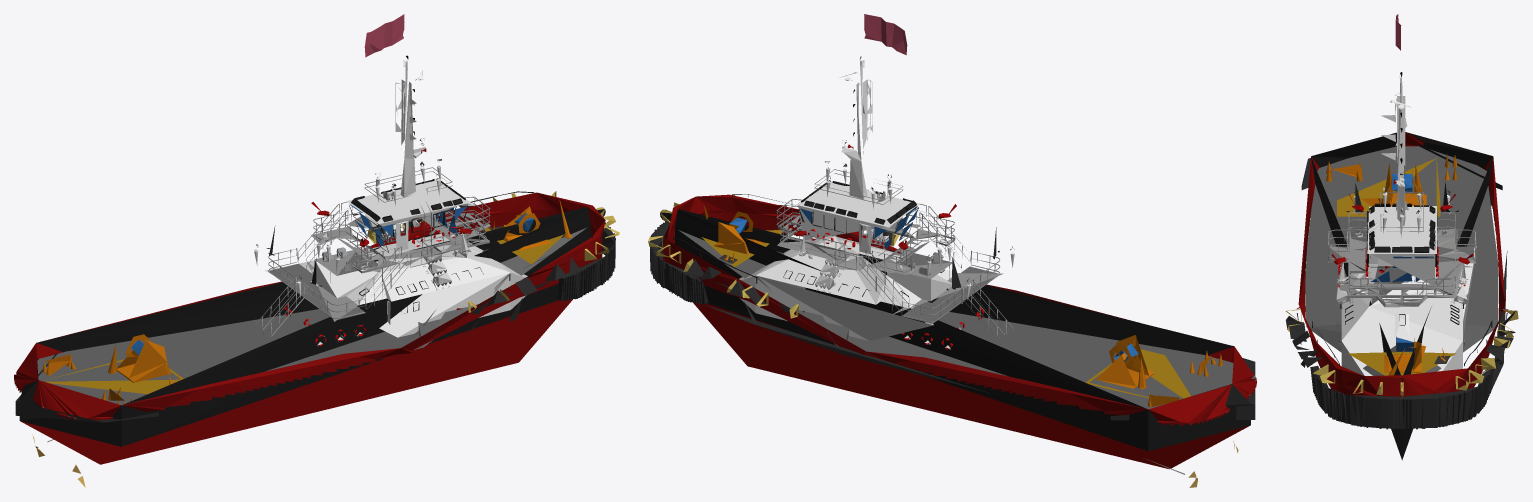
File: tugboat.glb
3 views of the same model, side by side, from view 1: azimuth 30°, elevation 25°; view 2: azimuth 150°, elevation 25°; view 3: azimuth 270°, elevation 25° (orthographic). The views are drawn at different scales.
Visible parts, largest first — view 1: Object_5673, Object_5674, Object_25, Object_4431, Object_16, Object_5639, Object_1939, Object_5649, Object_2661, Object_2561, Object_5713, Object_2726 (+3 smaller); view 2: Object_5673, Object_5674, Object_25, Object_4431, Object_16, Object_1939, Object_5639, Object_5649, Object_2661, Object_2561, Object_2726, Object_5713 (+3 smaller); view 3: Object_4431, Object_25, Object_1939, Object_5673, Object_16, Object_5674, Object_5639, Object_5649, Object_2561, Object_5714, Object_5713, Object_2562 (+4 smaller).
Part boxes in pixels (box(x1,y1,x2,y2)): Object_5673: box(14, 192, 605, 464); Object_5674: box(19, 191, 605, 446); Object_25: box(264, 82, 527, 346); Object_4431: box(20, 227, 587, 418); Object_16: box(254, 167, 510, 336); Object_5639: box(42, 200, 571, 404); Object_1939: box(15, 159, 615, 422); Object_5649: box(46, 227, 564, 394); Object_2661: box(268, 252, 377, 319); Object_2561: box(349, 178, 483, 313); Object_5713: box(372, 205, 580, 314); Object_2726: box(364, 14, 404, 57); Object_5673: box(663, 194, 1256, 469); Object_5674: box(660, 194, 1250, 451); Object_25: box(739, 82, 951, 349); Object_4431: box(678, 230, 1256, 411); Object_16: box(756, 169, 1013, 340); Object_1939: box(649, 161, 1255, 420); Object_5639: box(703, 203, 1222, 406); Object_5649: box(701, 230, 1190, 398); Object_2661: box(897, 253, 997, 323); Object_2561: box(783, 180, 944, 296); Object_2726: box(864, 14, 907, 55); Object_5713: box(686, 205, 895, 315); Object_4431: box(1305, 146, 1498, 375); Object_25: box(1337, 103, 1476, 375); Object_1939: box(1296, 144, 1507, 429); Object_5673: box(1297, 132, 1508, 396); Object_16: box(1316, 192, 1487, 348); Object_5674: box(1311, 132, 1493, 460); Object_5639: box(1326, 154, 1457, 375); Object_5649: box(1337, 158, 1456, 375); Object_2561: box(1340, 203, 1463, 325); Object_5714: box(1285, 309, 1518, 397); Object_5713: box(1285, 310, 1515, 367); Object_2562: box(1371, 174, 1434, 351).
Bounding box in the file's own units: 41.95 × 25.62 × 13.45.
